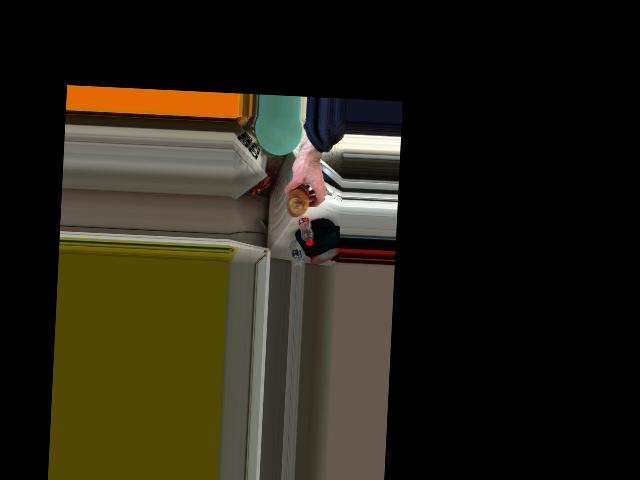sweet_potato: (282, 180, 312, 219)
